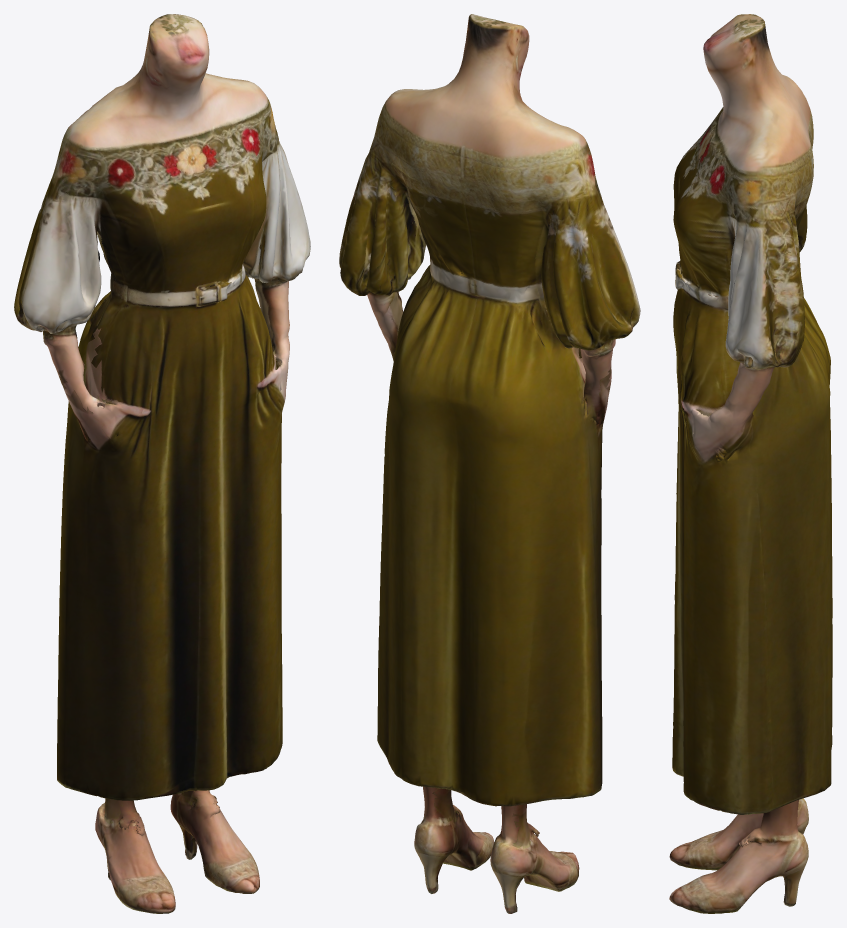
The model's file is job_1743890115_refined.glb.
3 views of the same model, side by side, from view 1: azimuth 30°, elevation 25°; view 2: azimuth 150°, elevation 25°; view 3: azimuth 270°, elevation 25° (orthographic).
Bounding box in the file's own units: 0.7083 × 2.01 × 0.3441.
1 material, 1 textured.
